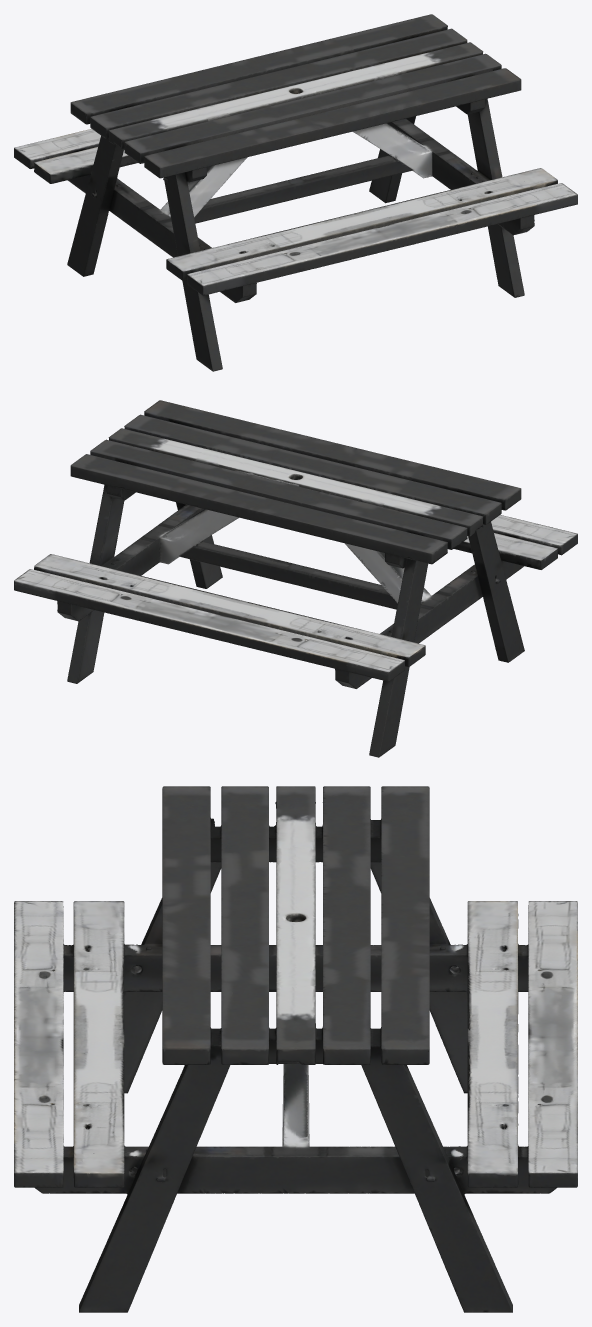
File: Meshy_AI_RP_P014_Harry_A_Frame_0324170836_texture-v1-v2.glb
3 renders of one model, top to bottom at view 1: azimuth 30°, elevation 25°; view 2: azimuth 150°, elevation 25°; view 3: azimuth 270°, elevation 25°, orthographic. The views are drawn at different scales.
Parts seen in each view (by area): view 1: Mesh_0; view 2: Mesh_0; view 3: Mesh_0.
Part boxes in pixels (left/top/right/bottom): Mesh_0: left=14, top=14, right=577, bottom=371; Mesh_0: left=14, top=400, right=577, bottom=757; Mesh_0: left=14, top=786, right=577, bottom=1312.
Size of the model in its own units: 50980 by 24578 by 44570.
1 material, 1 textured.
